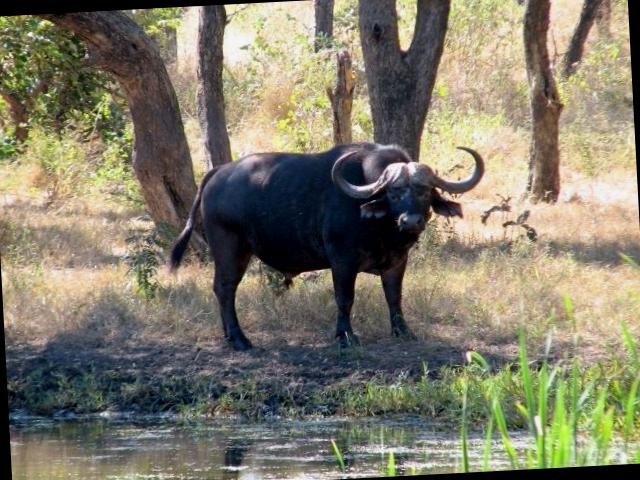Buffalo: (132, 102, 494, 389)
